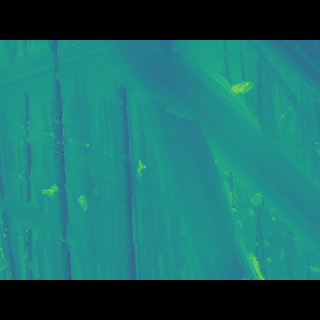Loch: (112, 69, 319, 248)
